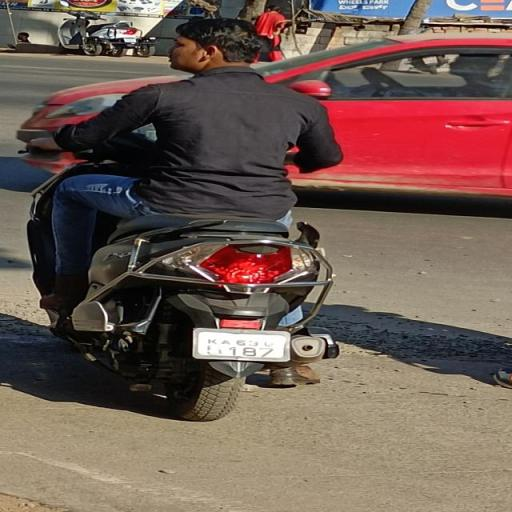bike: (19, 15, 368, 424)
numberplate: (198, 326, 288, 360)
withouthelmet: (176, 20, 258, 72)
